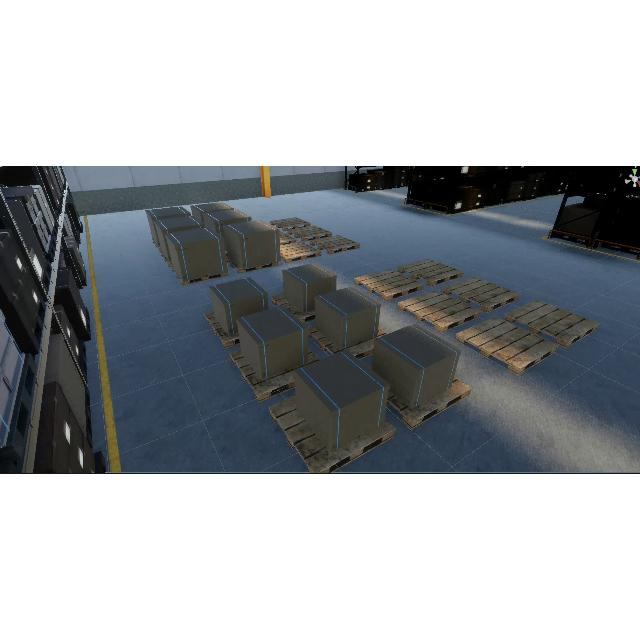wooden_pallet: (268, 397, 395, 474), (455, 316, 559, 375), (229, 347, 322, 401), (387, 373, 473, 429), (505, 300, 600, 348), (396, 289, 482, 333), (441, 276, 520, 313), (354, 268, 425, 302), (398, 258, 464, 286), (203, 310, 242, 349), (172, 266, 230, 286), (309, 235, 361, 254), (226, 256, 280, 274), (280, 242, 321, 263), (287, 226, 333, 242), (270, 217, 311, 232), (280, 231, 297, 245)
